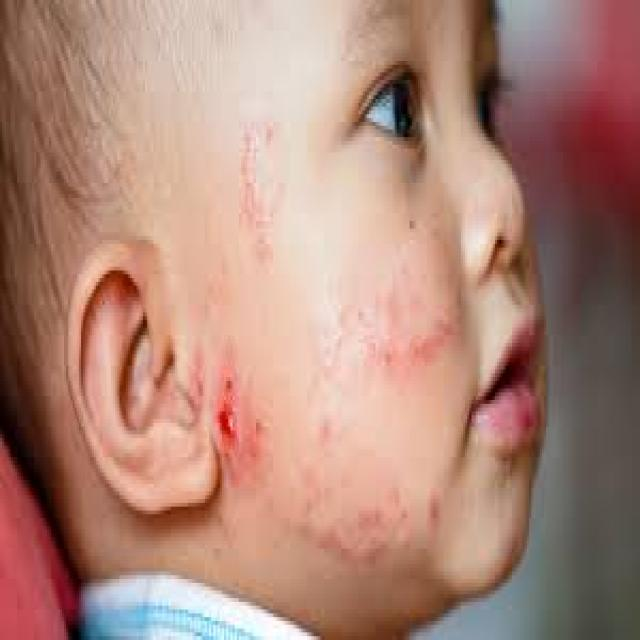Eczema: (335, 215, 467, 435), (206, 344, 293, 515), (305, 476, 439, 572), (243, 111, 280, 276)
